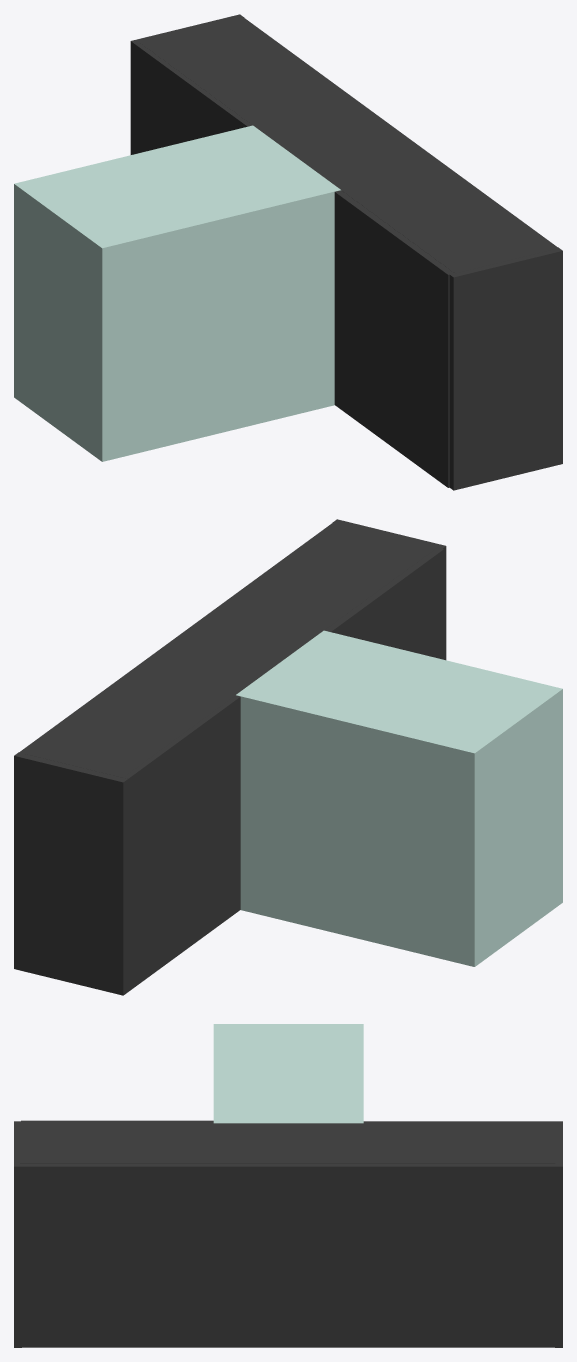
The model's file is SolitaryConfinement.fbx.
3 renders of one model, top to bottom at view 1: azimuth 30°, elevation 25°; view 2: azimuth 150°, elevation 25°; view 3: azimuth 270°, elevation 25°, orthographic. The views are drawn at different scales.
Parts seen in each view (by area): view 1: Cell, Floor.001, Wall.001, Wall.004, Wall.002, Wall, Wall.003; view 2: Cell, Floor.001, Wall.003, Wall.002, Wall.001, Wall, Wall.004; view 3: Wall, Floor.001, Cell, Wall.003, Wall.004, Wall.001, Wall.002.
Part boxes in pixels (<box>): Cell: <box>14,125,340,461</box>; Floor.001: <box>140,19,551,273</box>; Wall.001: <box>334,190,453,487</box>; Wall.004: <box>449,247,562,490</box>; Wall.002: <box>135,43,252,153</box>; Wall: <box>238,18,558,249</box>; Wall.003: <box>130,14,244,154</box>; Cell: <box>236,630,562,966</box>; Floor.001: <box>26,523,437,777</box>; Wall.003: <box>14,752,127,995</box>; Wall.002: <box>123,695,240,991</box>; Wall.001: <box>324,547,443,659</box>; Wall: <box>19,522,339,753</box>; Wall.004: <box>332,519,446,660</box>; Wall: <box>20,1164,555,1347</box>; Floor.001: <box>20,1123,555,1163</box>; Cell: <box>213,1024,363,1123</box>; Wall.003: <box>555,1121,562,1347</box>; Wall.004: <box>14,1121,21,1347</box>; Wall.001: <box>21,1120,213,1123</box>; Wall.002: <box>363,1121,554,1123</box>.
Size of the model in its own units: 529 by 314 by 862.
